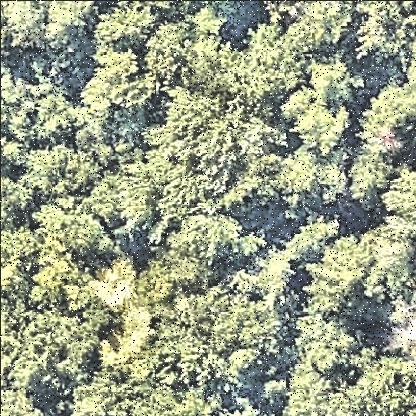tree-top: (149, 95, 271, 199), (154, 286, 282, 381), (8, 309, 101, 389), (308, 238, 376, 319), (23, 135, 96, 207), (161, 210, 248, 269), (285, 84, 355, 157), (236, 27, 295, 113), (334, 355, 416, 416), (84, 43, 151, 111), (270, 1, 359, 52), (91, 168, 157, 235), (292, 312, 360, 376), (37, 199, 108, 260), (361, 86, 416, 160), (368, 215, 416, 295), (26, 252, 93, 309), (94, 1, 166, 53), (23, 83, 81, 147), (270, 146, 326, 211), (142, 19, 194, 88), (354, 3, 410, 65), (118, 383, 219, 416), (271, 361, 327, 416), (305, 52, 362, 105), (373, 285, 416, 355), (67, 367, 127, 416), (251, 245, 307, 296), (94, 9, 156, 54), (113, 304, 158, 364), (347, 147, 385, 218), (40, 1, 101, 45), (1, 221, 34, 302), (285, 214, 339, 262), (1, 1, 50, 53), (191, 40, 232, 98), (90, 265, 138, 313), (1, 63, 26, 141), (377, 171, 416, 220), (1, 165, 29, 233), (189, 1, 251, 31), (1, 385, 48, 416)
